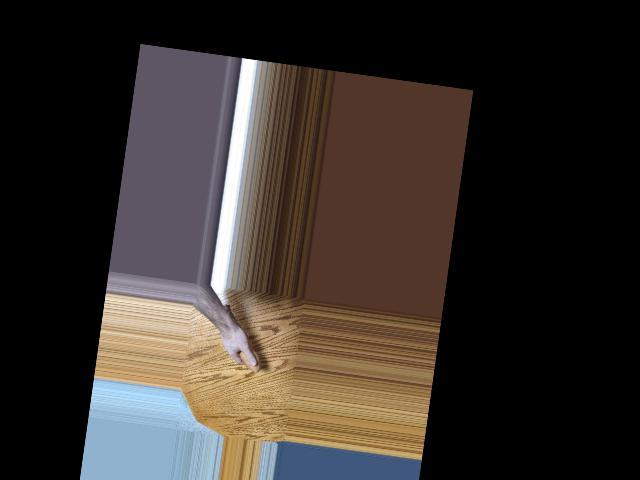sweet_potato: (214, 302, 268, 372)
